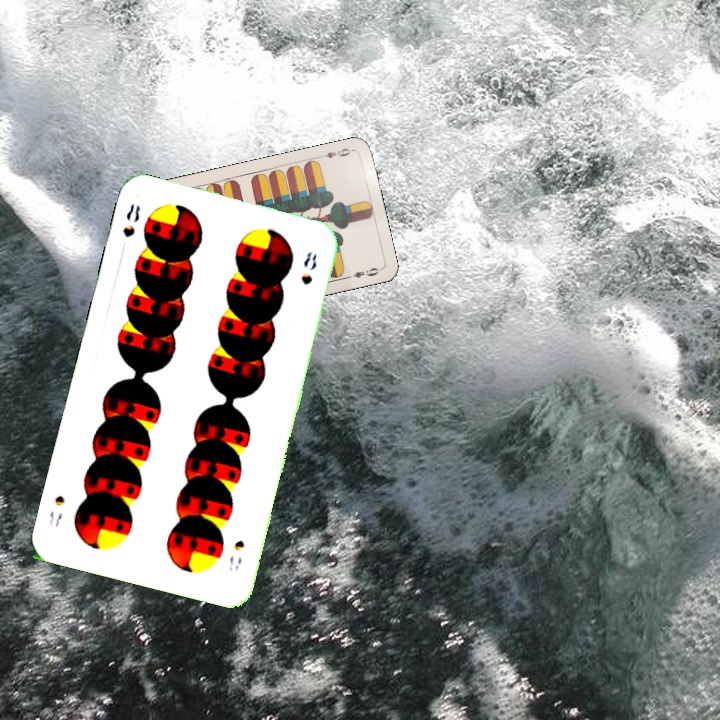E9: (315, 144, 355, 161)
S8: (118, 200, 143, 240), (225, 536, 247, 574)
